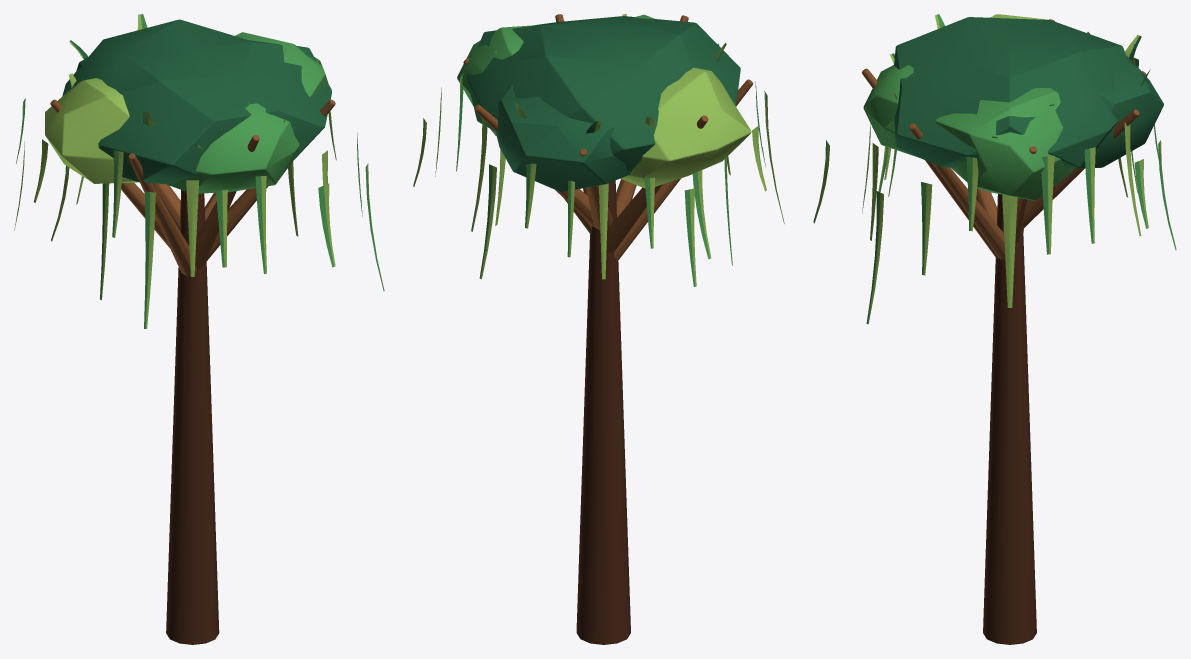
File: tree_willow.glb
3 renders of one model, left to right at view 1: azimuth 30°, elevation 25°; view 2: azimuth 150°, elevation 25°; view 3: azimuth 270°, elevation 25°, orthographic. The views are drawn at different scales.
Visible parts, largest first — view 1: Graceful willow trunk.001; view 2: Graceful willow trunk.001; view 3: Graceful willow trunk.001.
Boxes of the visible parts, bbox=[...] form: Graceful willow trunk.001: bbox=[14, 14, 384, 644]; Graceful willow trunk.001: bbox=[413, 14, 784, 644]; Graceful willow trunk.001: bbox=[813, 14, 1176, 644].
Bounding box in the file's own units: 3.76 × 7.26 × 4.03.
